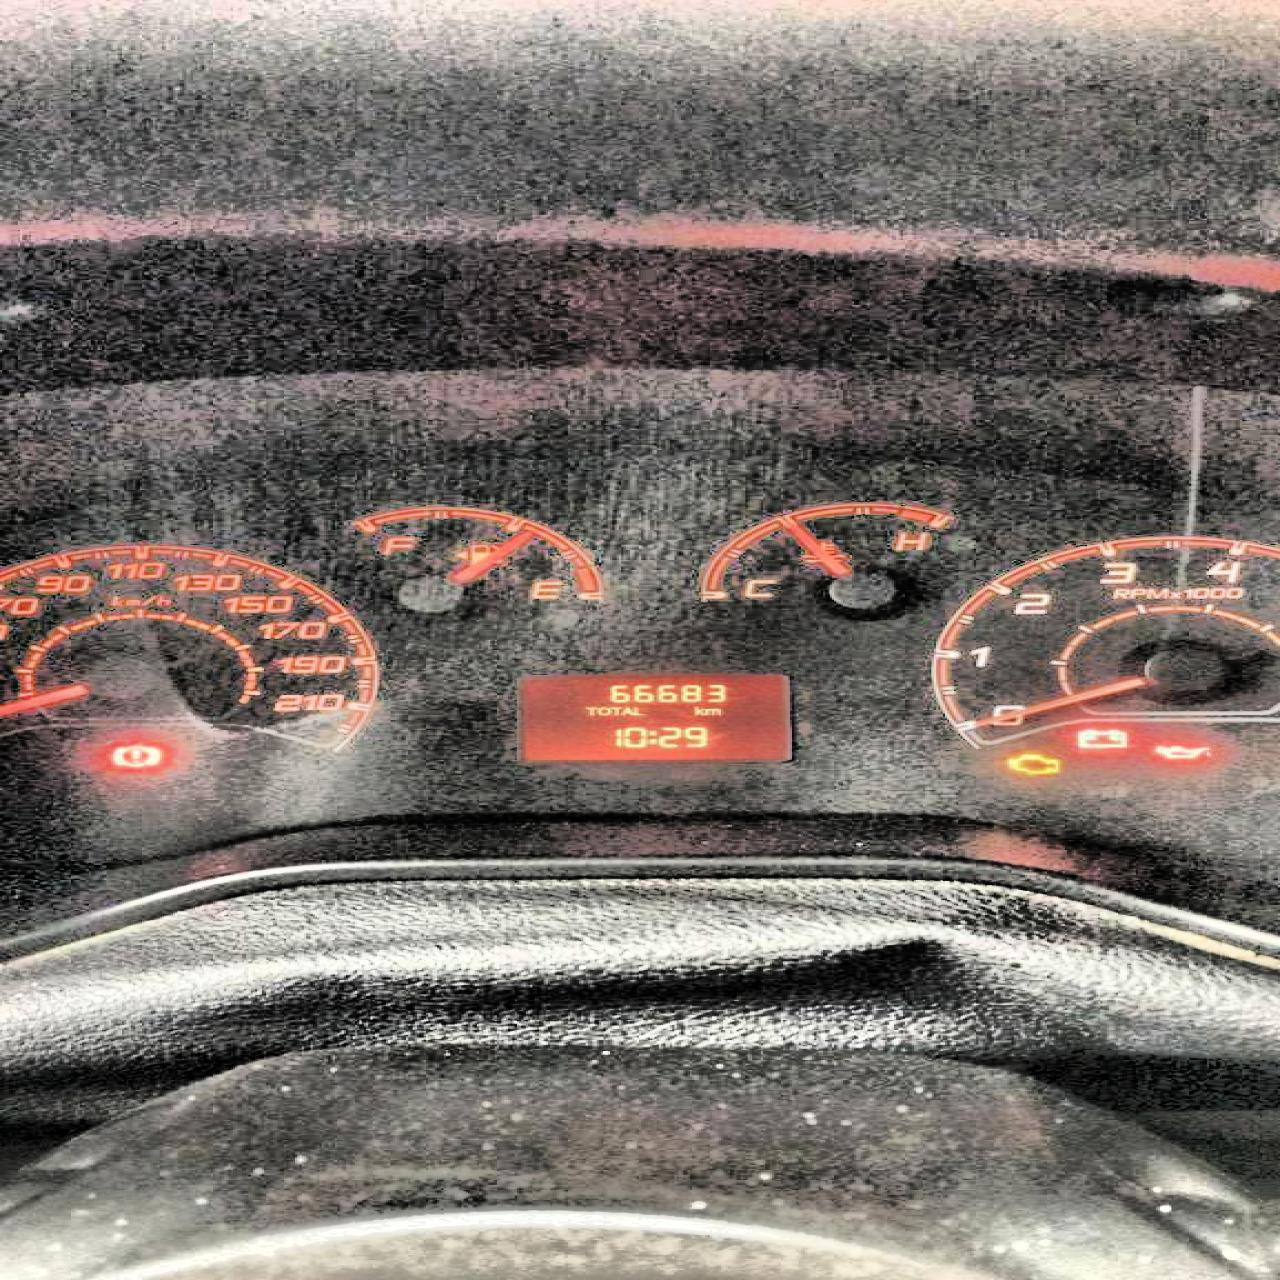0: (621, 724, 646, 747)
1: (610, 724, 621, 747)
2: (654, 724, 681, 747)
3: (703, 681, 726, 702)
6: (606, 683, 631, 702), (629, 683, 652, 702), (654, 683, 676, 702)
8: (676, 682, 701, 702)
9: (681, 724, 708, 747)
X: (701, 706, 721, 716), (597, 704, 611, 715), (619, 704, 632, 715), (584, 704, 597, 715), (690, 703, 701, 716), (646, 729, 654, 743), (608, 704, 619, 715), (632, 706, 641, 715)
odometer: (510, 667, 801, 767)
